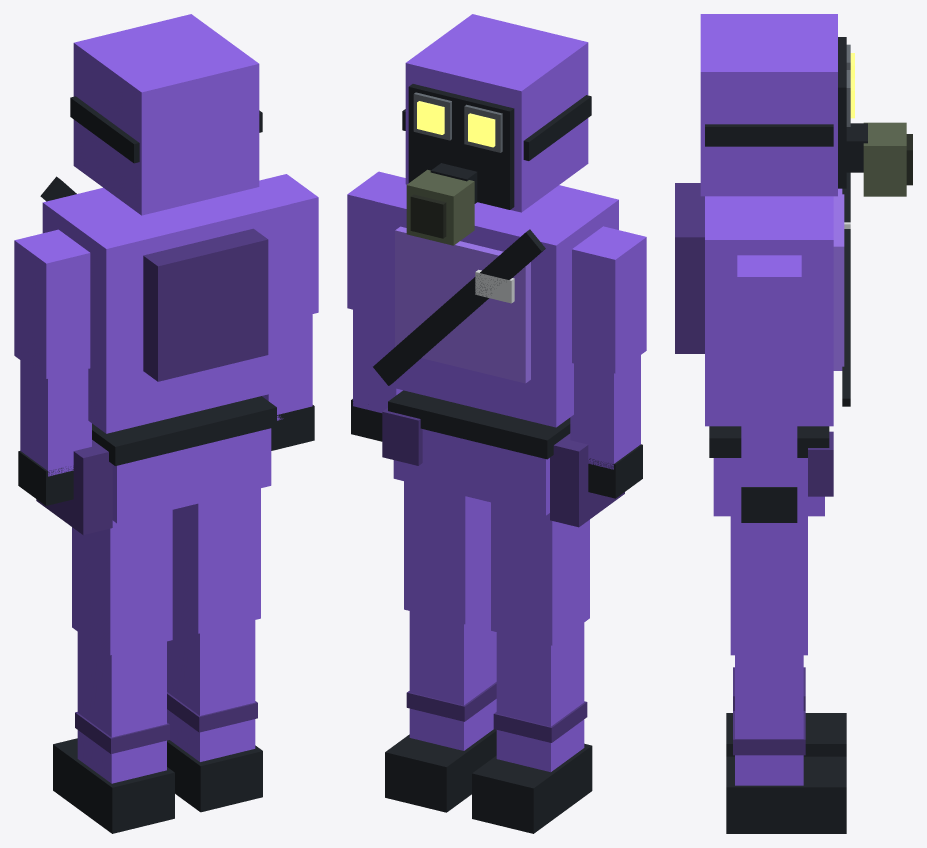
The model's file is gas_mask_purple.glb.
The picture shows the model from 3 angles, left to right: view 1: azimuth 30°, elevation 25°; view 2: azimuth 150°, elevation 25°; view 3: azimuth 270°, elevation 25°; orthographic projection. The views are drawn at different scales.
Parts seen in each view (by area): view 1: Merged4, Merged, Merged7, Merged5, Merged6, _MeshInstance3D_1680, _MeshInstance3D_1691, _MeshInstance3D_1675, Merged2, _MeshInstance3D_1686, Merged3; view 2: Merged4, Merged, Merged7, Merged5, Merged6, _MeshInstance3D_1680, _MeshInstance3D_1691, _MeshInstance3D_1675, Merged2, _MeshInstance3D_1686, Merged3; view 3: Merged, Merged4, Merged6, _MeshInstance3D_1691, _MeshInstance3D_1686, Merged3, Merged7, Merged5.
Boxes of the visible parts, x1,y1,x2,y2 form: Merged4: (40, 176, 290, 433); Merged: (70, 14, 262, 215); Merged7: (36, 396, 276, 534); Merged5: (53, 632, 174, 833); Merged6: (167, 615, 262, 812); _MeshInstance3D_1680: (72, 510, 172, 655); _MeshInstance3D_1691: (172, 488, 260, 633); _MeshInstance3D_1675: (14, 229, 90, 378); Merged2: (18, 360, 91, 505); _MeshInstance3D_1686: (259, 174, 318, 319); Merged3: (262, 314, 314, 450); Merged4: (373, 179, 618, 427); Merged: (402, 14, 591, 245); Merged7: (382, 390, 624, 527); Merged5: (472, 623, 592, 833); Merged6: (385, 606, 496, 812); _MeshInstance3D_1680: (491, 502, 589, 645); _MeshInstance3D_1691: (404, 481, 490, 624); _MeshInstance3D_1675: (572, 226, 646, 373); Merged2: (570, 355, 642, 498); _MeshInstance3D_1686: (347, 171, 405, 314); Merged3: (351, 309, 402, 441); Merged: (700, 14, 912, 196); Merged4: (675, 172, 850, 426); Merged6: (726, 655, 846, 833); _MeshInstance3D_1691: (730, 516, 807, 655); _MeshInstance3D_1686: (737, 255, 801, 393); Merged3: (741, 393, 797, 522); Merged7: (709, 426, 833, 516); Merged5: (726, 667, 846, 756).
Size of the model in its own units: 0.74 by 1.94 by 0.555.
